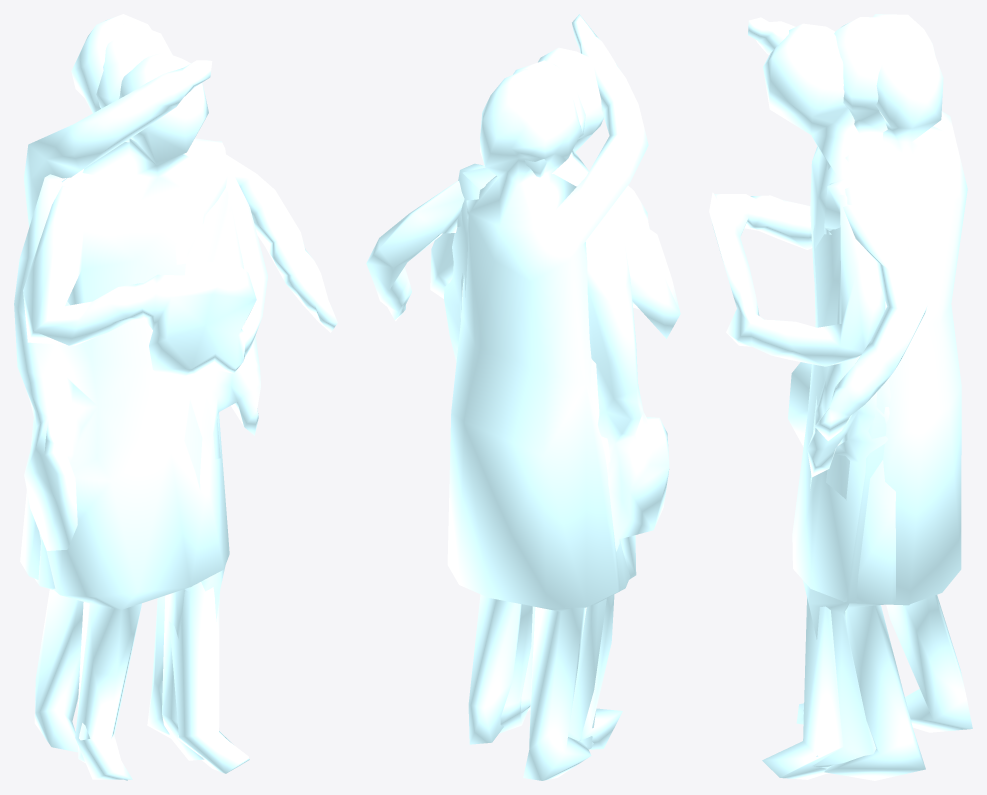
The model's file is echo_crowd.glb.
3 views of the same model, side by side, from view 1: azimuth 30°, elevation 25°; view 2: azimuth 150°, elevation 25°; view 3: azimuth 270°, elevation 25° (orthographic). The views are drawn at different scales.
Parts seen in each view (by area): view 1: pose_a, pose_b, pose_c; view 2: pose_c, pose_a, pose_b; view 3: pose_c, pose_a, pose_b.
Part boxes in pixels (x1,y1,x2,y2): pose_a: (14, 21, 260, 779); pose_b: (23, 52, 267, 780); pose_c: (20, 14, 337, 773); pose_c: (366, 14, 648, 780); pose_a: (444, 60, 669, 749); pose_b: (430, 47, 680, 749); pose_c: (748, 14, 972, 779); pose_a: (788, 17, 925, 780); pose_b: (709, 23, 909, 773).
Size of the model in its own units: 0.738 by 1.71 by 0.5479.
